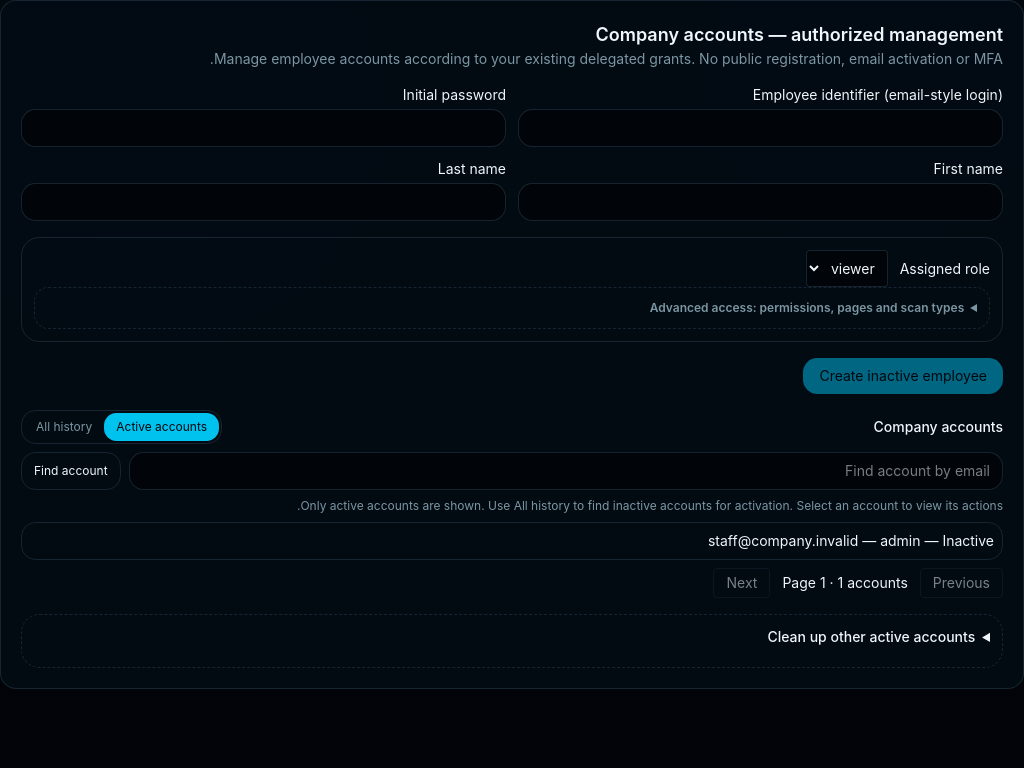
Scenario: owner-only company account UI › does not manufacture a successful response when server denies account access
Expected: the button "staff@company.invalid — admin — Inactive" is shown, [21,522,1003,560]
Type "new@company.invalid" into the field named "Employee login" at (760, 128), box [518,109,1003,147]
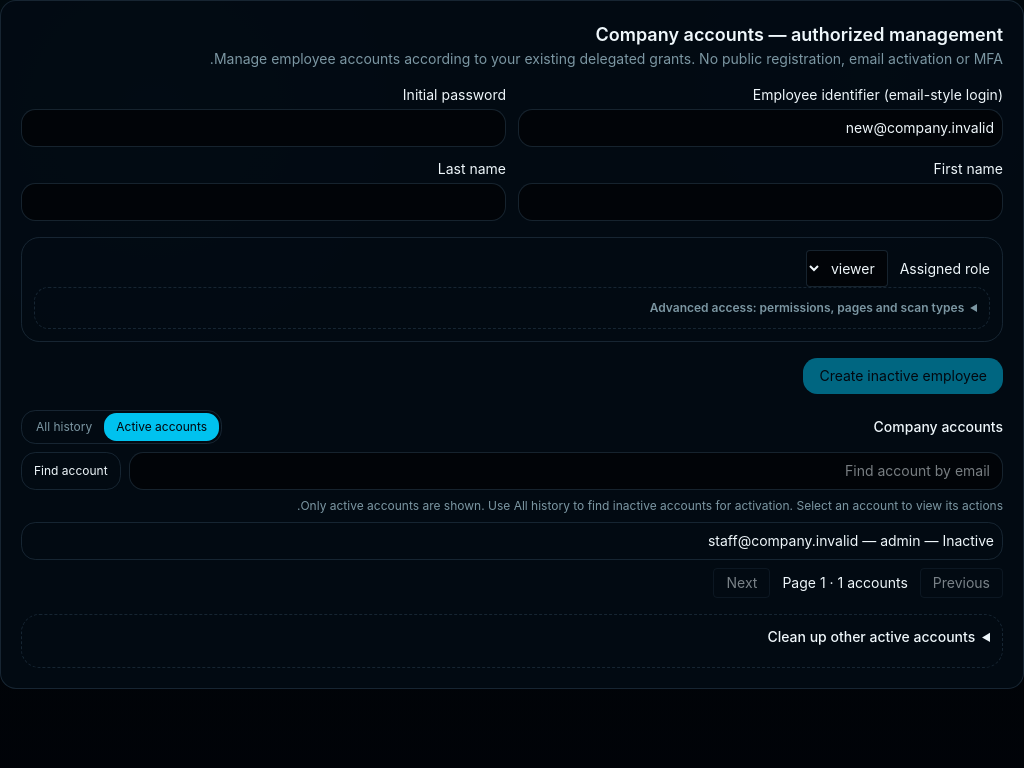
Type "Strong-New-Password!2026" into the password field named "Initial employee password" at (264, 128), box [21,109,506,147]
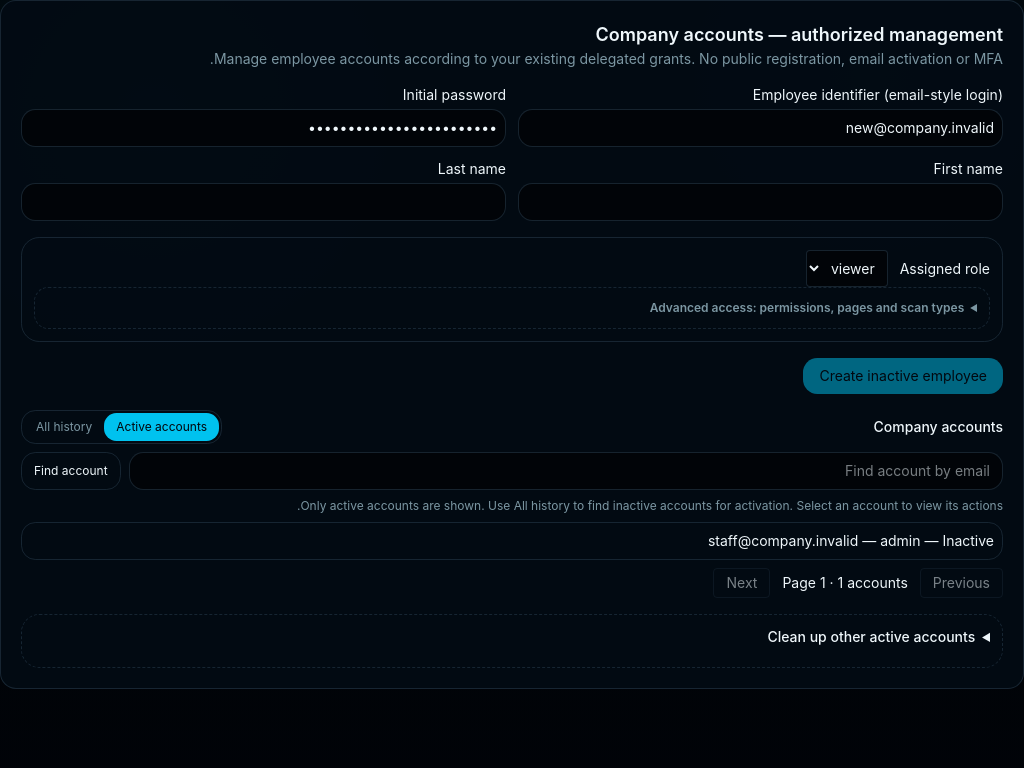
Type "New" into the field named "Employee first name" at (760, 202), box [518,183,1003,221]
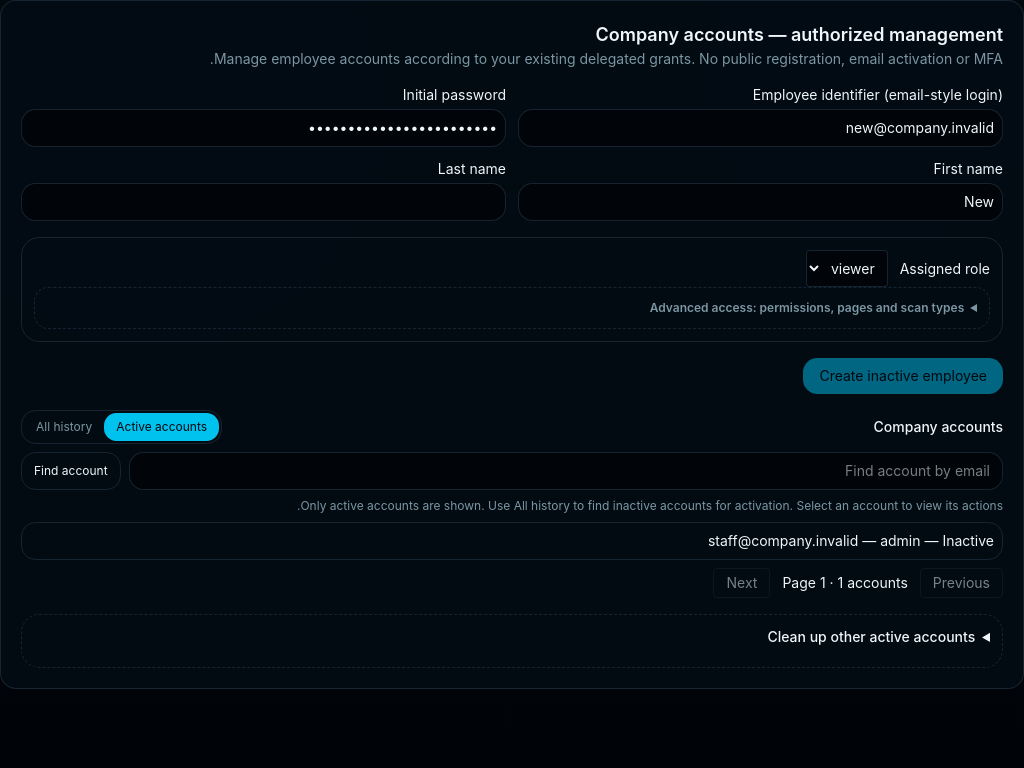
Type "Staff" into the field named "Employee last name" at (264, 202), box [21,183,506,221]
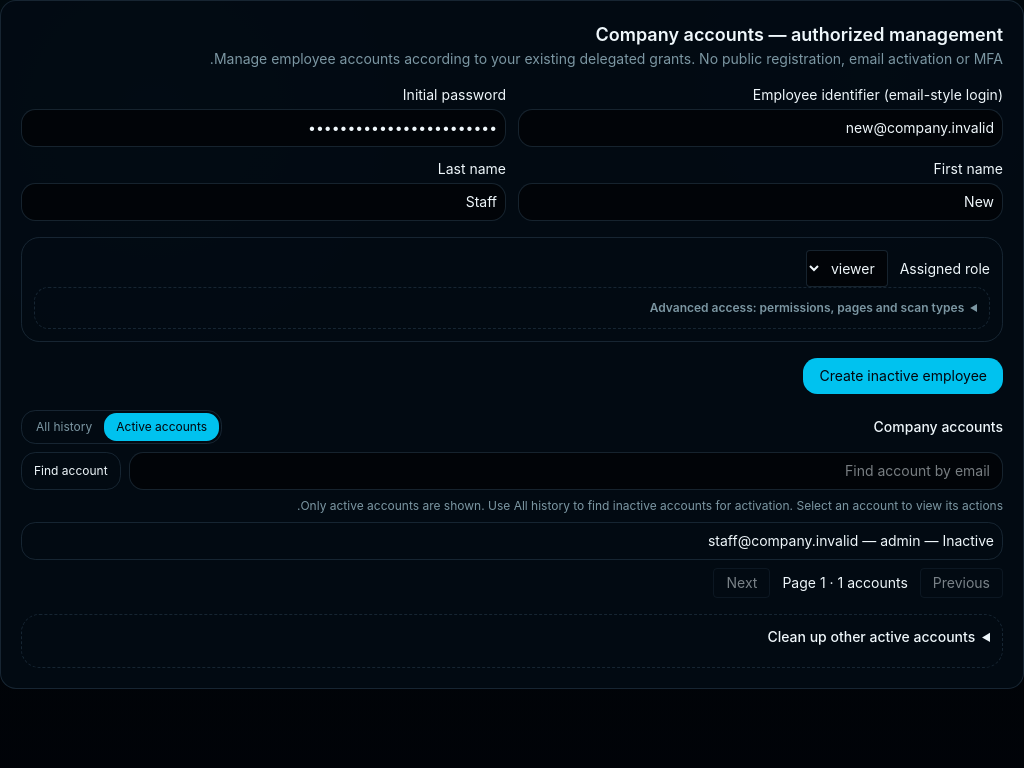
Click the button "Create inactive employee" at (903, 376), box [803,358,1003,394]
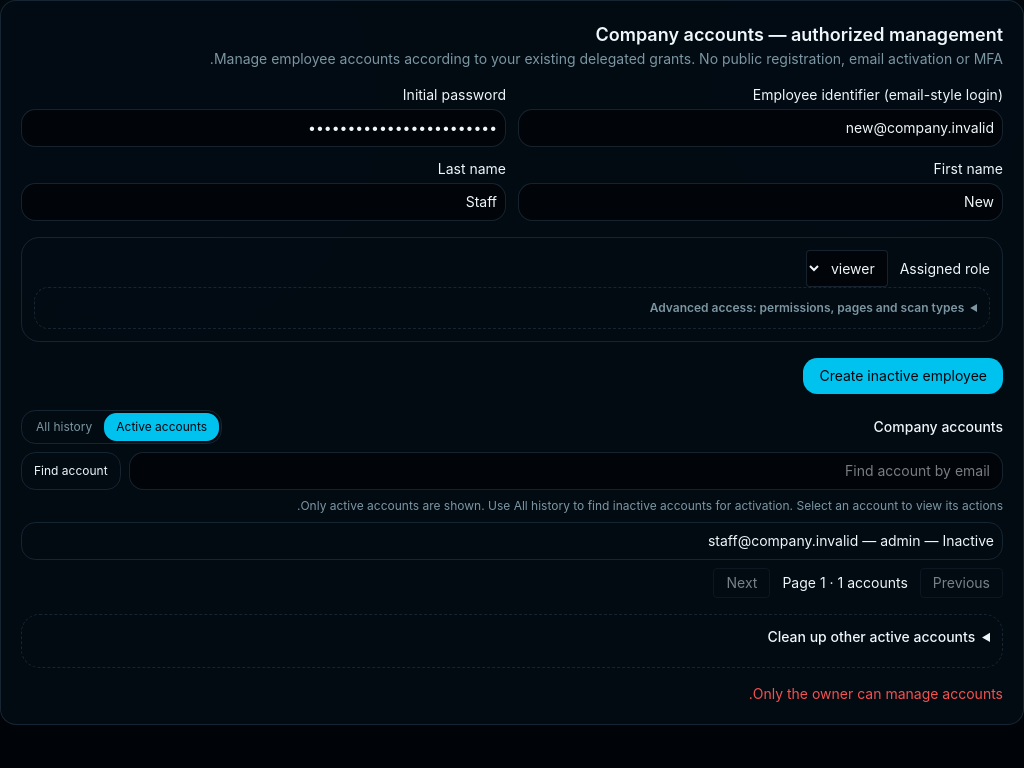
Expected: the message shows "Only the owner", [749,685,1003,702]
